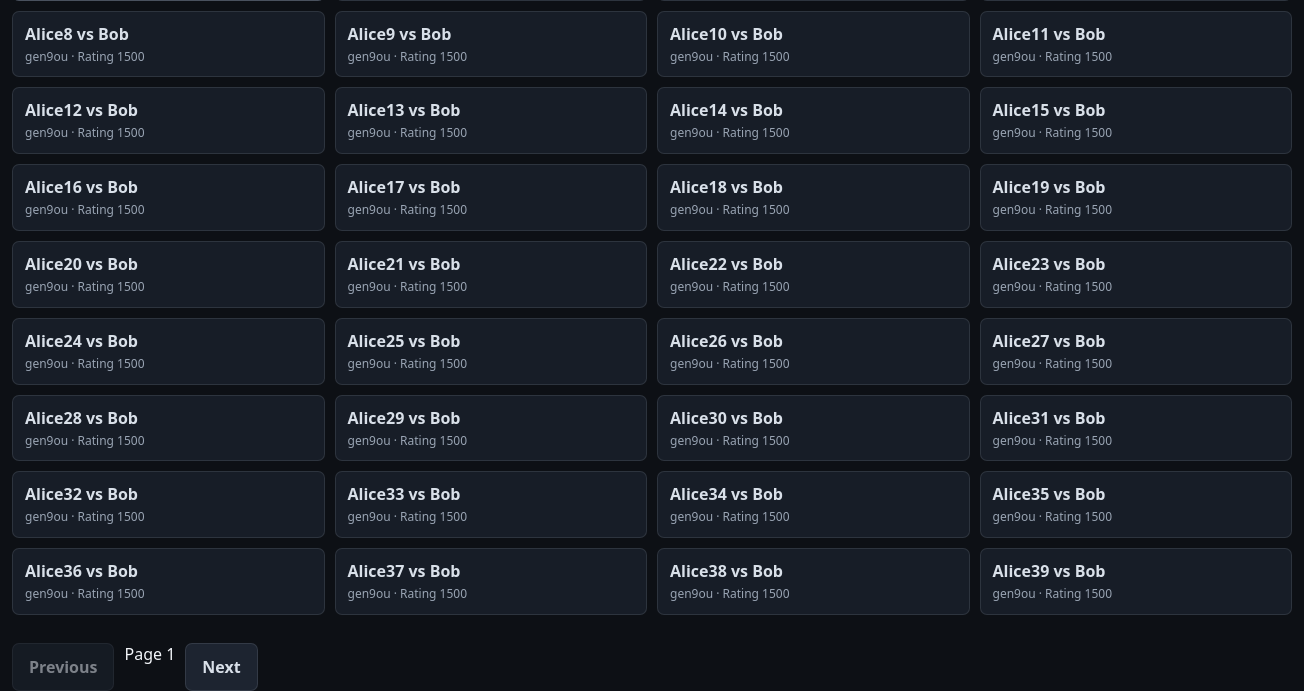
returns to the first page when the format changes
(page scrolled)
Click the button "Next" at point(221, 667), box [185, 643, 258, 690]
(page scrolled)
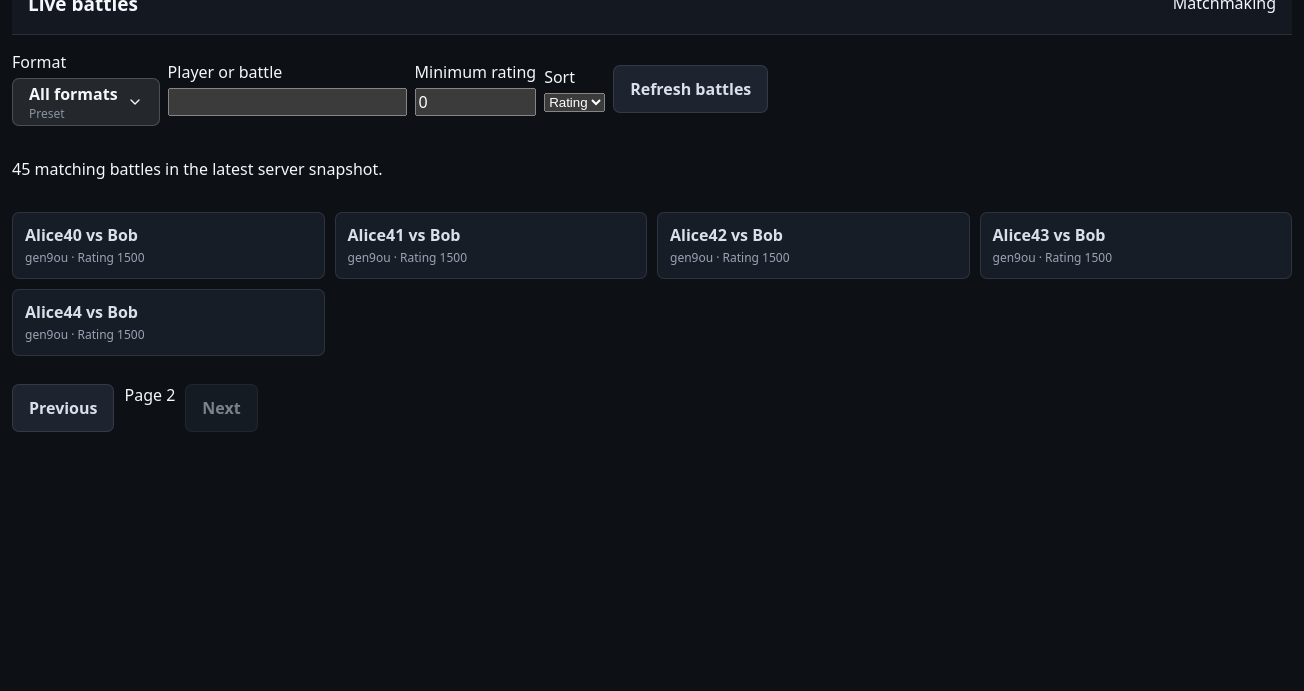
Result: the text "Page 2" is shown at [124, 384, 175, 406]
Click the button with aria-label "Select battle format" at point(86, 102), box [12, 78, 160, 126]
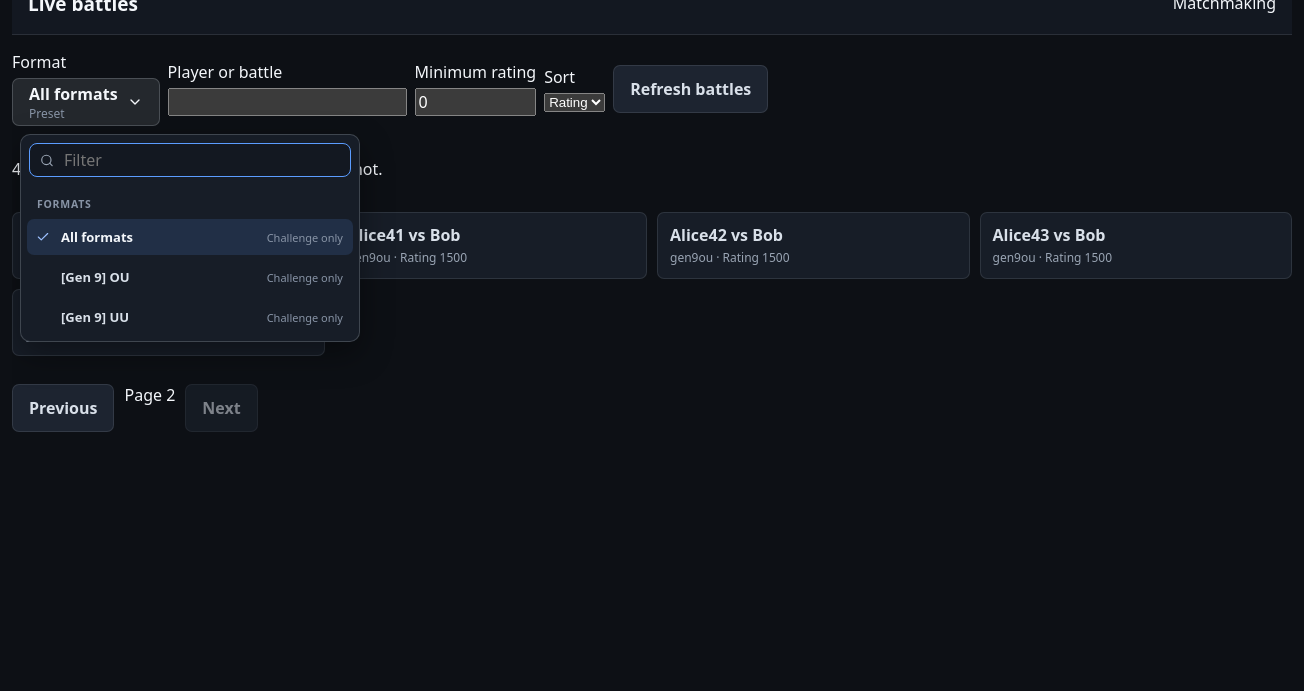
Click the option "[Gen 9] UU Challenge only" at point(95, 317), box [27, 299, 353, 335]
(page scrolled)
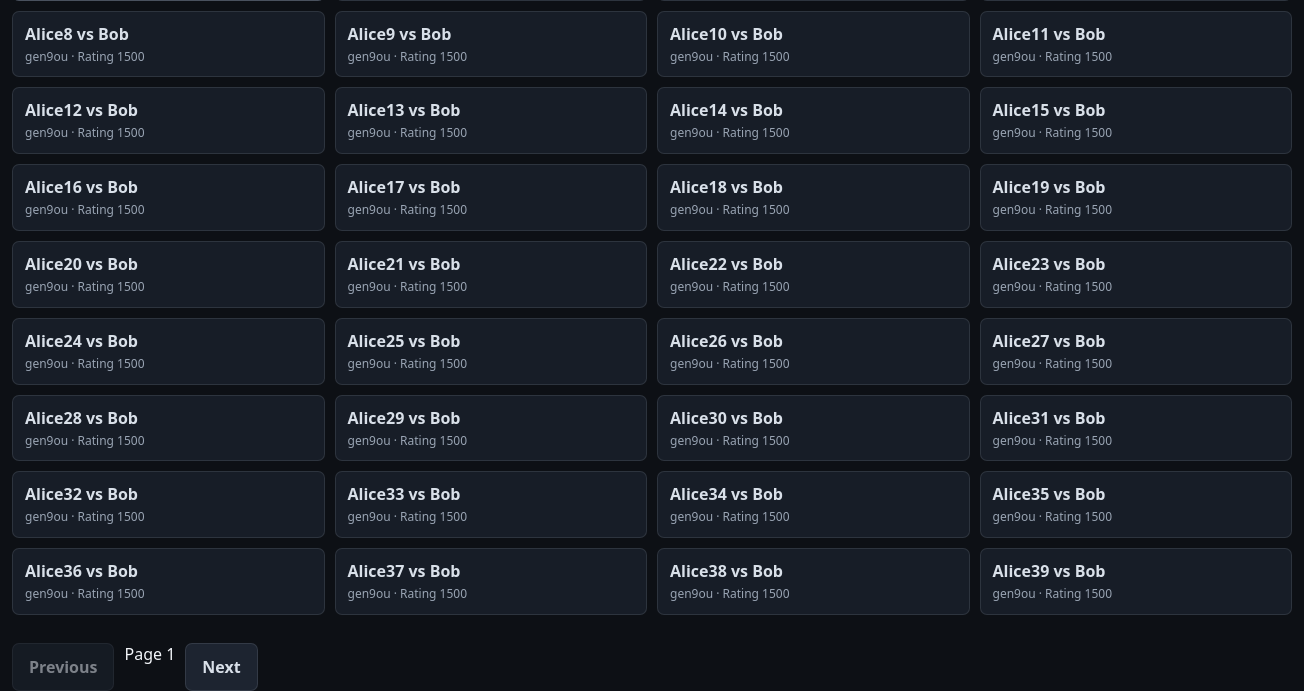
Result: the text "Page 1" is shown at [124, 643, 175, 665]
